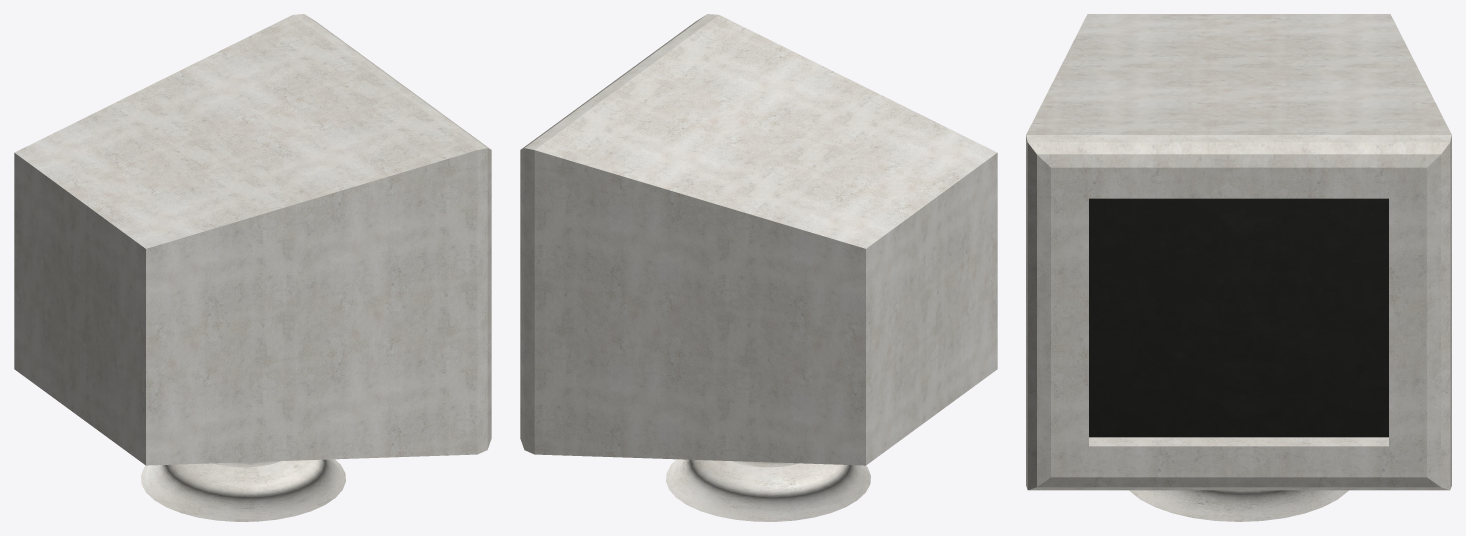
3 renders of one model, left to right at view 1: azimuth 30°, elevation 25°; view 2: azimuth 150°, elevation 25°; view 3: azimuth 270°, elevation 25°, orthographic. The views are drawn at different scales.
Parts seen in each view (by area): view 1: Cube, Cylinder.001; view 2: Cube, Cylinder.001; view 3: Cube, Cylinder.001.
Part boxes in pixels (bbox=[...]): Cube: bbox=[14, 14, 491, 465]; Cylinder.001: bbox=[141, 459, 345, 521]; Cube: bbox=[520, 14, 997, 465]; Cylinder.001: bbox=[666, 459, 870, 521]; Cube: bbox=[1026, 14, 1451, 490]; Cylinder.001: bbox=[1129, 490, 1348, 521].
Size of the model in its own units: 2 by 2.12 by 1.96.
Materials: 2 (2 with a texture image).
